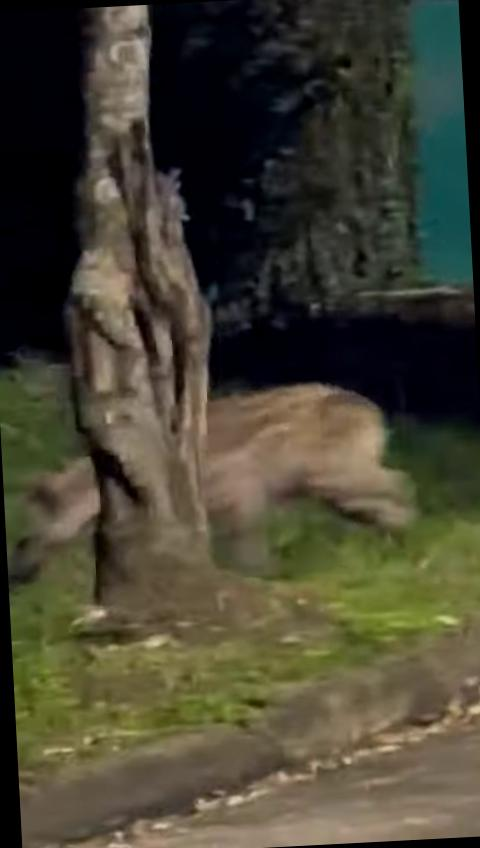hyenas: (0, 300, 480, 632)
